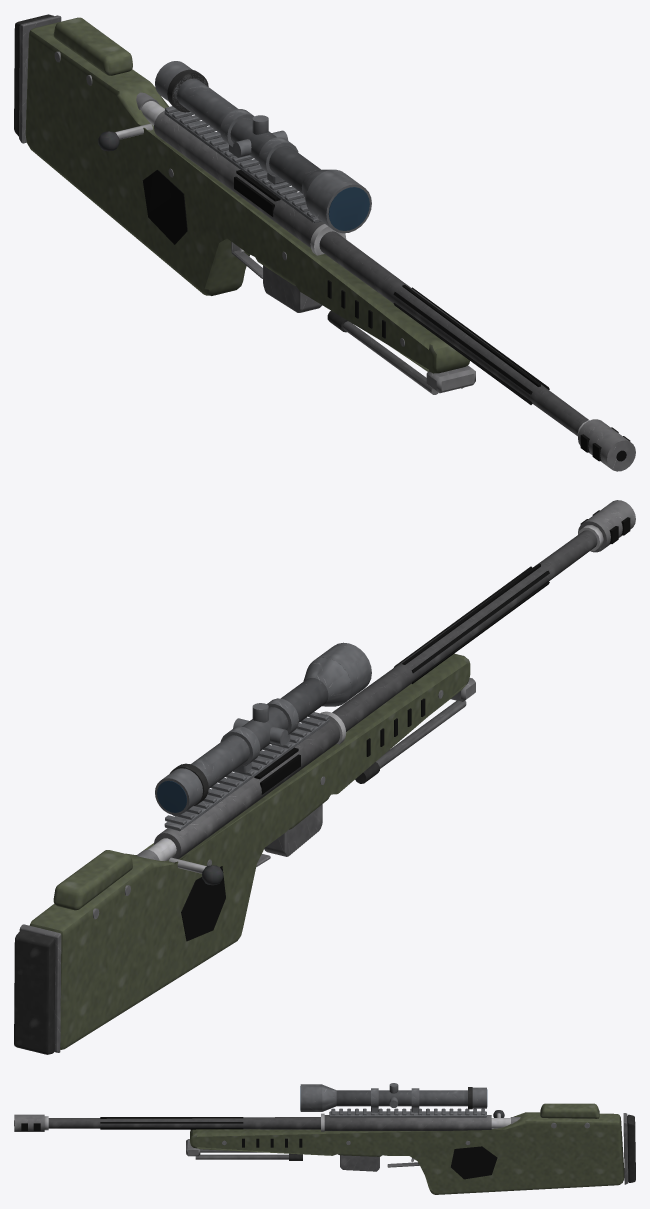
Rendered from operator.glb.
3 renders of one model, top to bottom at view 1: azimuth 30°, elevation 25°; view 2: azimuth 150°, elevation 25°; view 3: azimuth 270°, elevation 25°, orthographic. The views are drawn at different scales.
Parts seen in each view (by area): view 1: body, mag, bolt; view 2: body, mag, bolt; view 3: body, mag, bolt.
Boxes of the visible parts, x1=… form: body: x1=14, y1=14, x2=635, y2=471; mag: x1=263, y1=265, x2=322, y2=312; bolt: x1=98, y1=92, x2=164, y2=151; body: x1=14, y1=500, x2=635, y2=1054; mag: x1=264, y1=804, x2=322, y2=856; bolt: x1=136, y1=838, x2=223, y2=885; body: x1=14, y1=1083, x2=635, y2=1194; mag: x1=340, y1=1155, x2=379, y2=1171; bolt: x1=491, y1=1110, x2=520, y2=1128.
Bounding box in the file's own units: 0.108 × 0.2465 × 1.3.
Materials: 8 (6 with a texture image).
